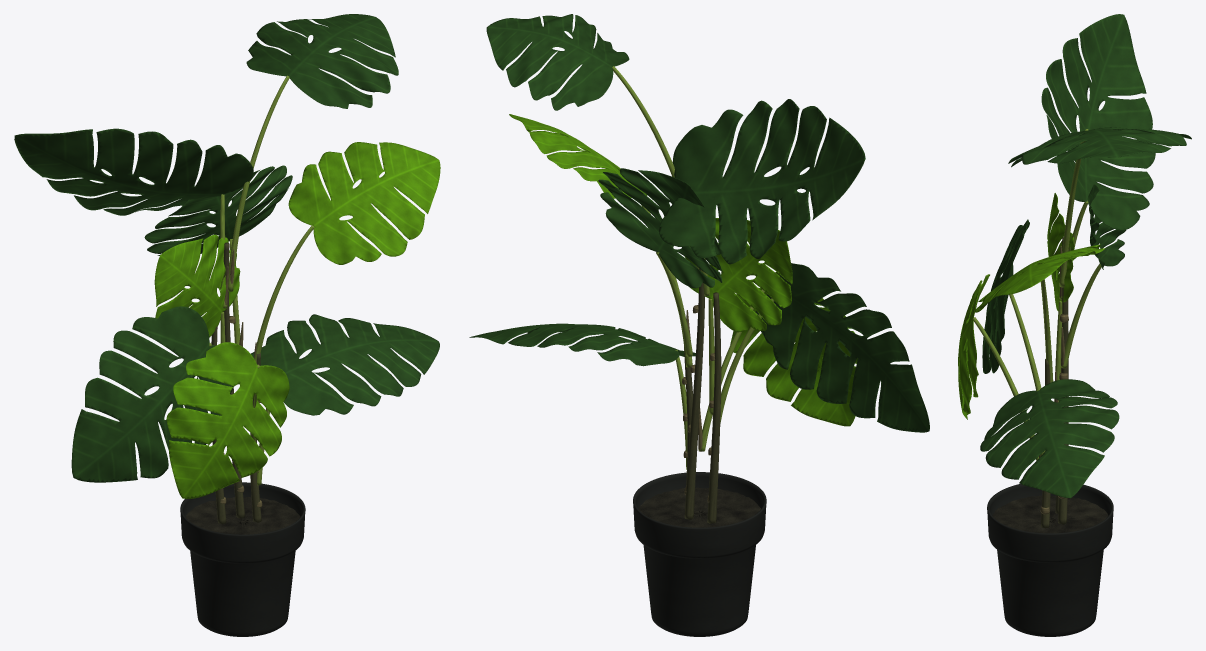
Rendered from monstera.glb.
The picture shows the model from 3 angles, left to right: view 1: azimuth 30°, elevation 25°; view 2: azimuth 150°, elevation 25°; view 3: azimuth 270°, elevation 25°; orthographic projection. The views are drawn at different scales.
Visible parts, largest first — view 1: Monstera_leaf_06_lower_left, Monstera_leaf_02_upper_left, Monstera_leaf_07_lower_front, Monstera_leaf_04_upper_right, Black nursery pot • hollow rim and tapered base, Monstera_leaf_08_lower_right, Monstera_leaf_01_top, Monstera_leaf_05_left_middle, Monstera_leaf_03_middle_back, Dark soil surface, Petiole_01_top, Cane_01 (+1 smaller); view 2: Monstera_leaf_02_upper_left, Monstera_leaf_06_lower_left, Black nursery pot • hollow rim and tapered base, Monstera_leaf_01_top, Monstera_leaf_03_middle_back, Monstera_leaf_05_left_middle, Monstera_leaf_08_lower_right, Monstera_leaf_07_lower_front, Dark soil surface, Monstera_leaf_04_upper_right, Cane_01, Cane_00 (+2 smaller); view 3: Monstera_leaf_02_upper_left, Black nursery pot • hollow rim and tapered base, Monstera_leaf_08_lower_right, Monstera_leaf_01_top, Dark soil surface, Monstera_leaf_06_lower_left, Monstera_leaf_07_lower_front, Monstera_leaf_04_upper_right, Monstera_leaf_05_left_middle, Monstera_leaf_03_middle_back, Petiole_01_top, Petiole_03_middle_back (+6 smaller).
Part boxes in pixels (x1,y1,x2,y2): Monstera_leaf_06_lower_left: (71, 306, 233, 482); Monstera_leaf_02_upper_left: (14, 128, 253, 215); Monstera_leaf_07_lower_front: (166, 342, 289, 498); Monstera_leaf_04_upper_right: (288, 142, 440, 264); Black nursery pot • hollow rim and tapered base: (180, 482, 305, 636); Monstera_leaf_08_lower_right: (251, 314, 439, 415); Monstera_leaf_01_top: (246, 14, 398, 108); Monstera_leaf_05_left_middle: (154, 234, 240, 337); Monstera_leaf_03_middle_back: (144, 165, 292, 255); Dark soil surface: (185, 497, 300, 534); Petiole_01_top: (228, 75, 289, 291); Cane_01: (223, 242, 244, 518); Monstera_leaf_02_upper_left: (659, 99, 865, 264); Monstera_leaf_06_lower_left: (755, 263, 929, 432); Black nursery pot • hollow rim and tapered base: (633, 472, 766, 636); Monstera_leaf_01_top: (486, 14, 629, 110); Monstera_leaf_03_middle_back: (598, 168, 722, 288); Monstera_leaf_05_left_middle: (684, 218, 792, 332); Monstera_leaf_08_lower_right: (469, 323, 695, 366); Monstera_leaf_07_lower_front: (730, 272, 857, 426); Dark soil surface: (639, 487, 760, 527); Monstera_leaf_04_upper_right: (509, 114, 652, 200); Cane_01: (684, 268, 704, 519); Cane_00: (707, 292, 721, 523); Monstera_leaf_02_upper_left: (1041, 14, 1155, 229); Black nursery pot • hollow rim and tapered base: (987, 484, 1113, 636); Monstera_leaf_08_lower_right: (980, 379, 1119, 498); Monstera_leaf_01_top: (1008, 127, 1191, 167); Dark soil surface: (992, 495, 1108, 533); Monstera_leaf_06_lower_left: (982, 219, 1029, 373); Monstera_leaf_07_lower_front: (958, 274, 989, 419); Monstera_leaf_04_upper_right: (974, 244, 1104, 312); Monstera_leaf_05_left_middle: (1047, 193, 1074, 310); Monstera_leaf_03_middle_back: (1087, 184, 1126, 269); Petiole_01_top: (1059, 129, 1088, 287); Petiole_03_middle_back: (1060, 263, 1101, 368).
Size of the model in its own units: 0.6991 by 0.9001 by 0.3506.
Materials: 7 (7 with a texture image).
